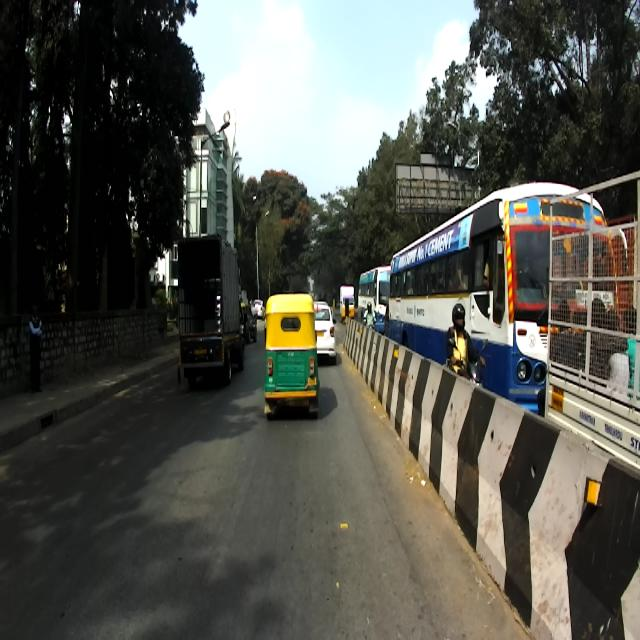auto ahead at: (264, 292, 320, 418)
truck ahead at: (176, 232, 245, 391)
